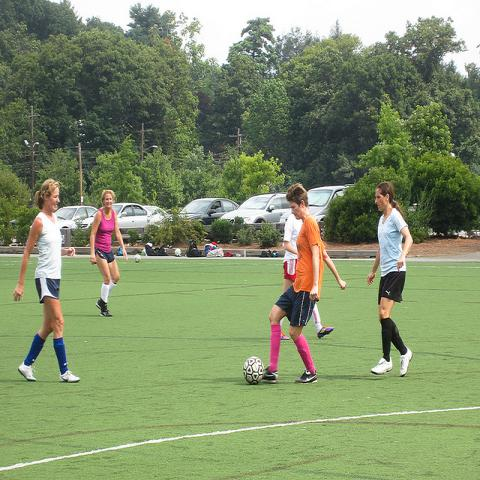car: (307, 184, 354, 240), (220, 193, 291, 224), (112, 203, 164, 244), (176, 198, 238, 226), (54, 205, 98, 229), (145, 207, 175, 226)
